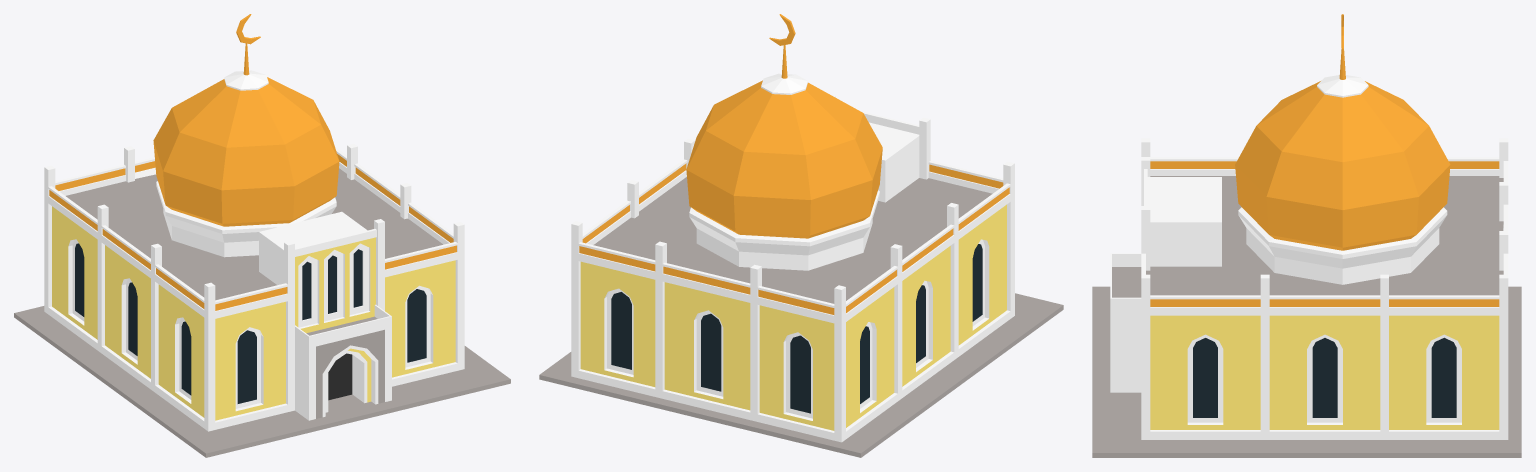
The model's file is mosque.glb.
3 renders of one model, left to right at view 1: azimuth 30°, elevation 25°; view 2: azimuth 150°, elevation 25°; view 3: azimuth 270°, elevation 25°, orthographic. The views are drawn at different scales.
Parts seen in each view (by area): view 1: mosque; view 2: mosque; view 3: mosque.
Boxes of the visible parts, <box> form: mosque: <box>14,14,510,457</box>; mosque: <box>539,14,1063,457</box>; mosque: <box>1092,14,1521,457</box>.
Size of the model in its own units: 22 by 22.33 by 24.
Materials: 1 (1 with a texture image).
